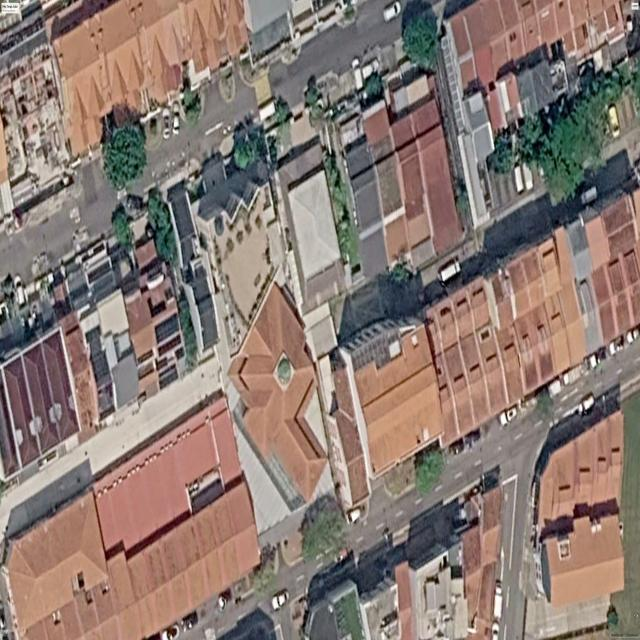Home: (27, 481, 260, 640), (426, 228, 587, 446), (52, 0, 248, 155), (8, 493, 107, 633), (355, 325, 443, 476), (391, 76, 464, 255), (278, 136, 345, 313), (346, 100, 408, 279), (539, 411, 623, 537), (587, 196, 640, 344), (542, 515, 624, 608), (462, 483, 503, 640)
mosque: (228, 284, 328, 502)
